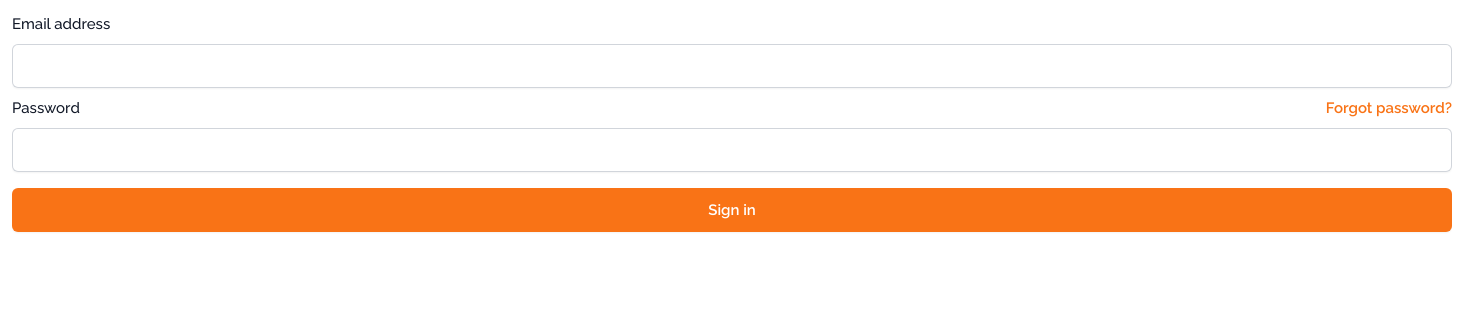
Test: LoginForm Component › Form submission tests › should register the user with the right data and route to the home page
Simulate user input
In the field labelled "Email address": [732, 66] box [12, 44, 1452, 88], type "test@example.com"
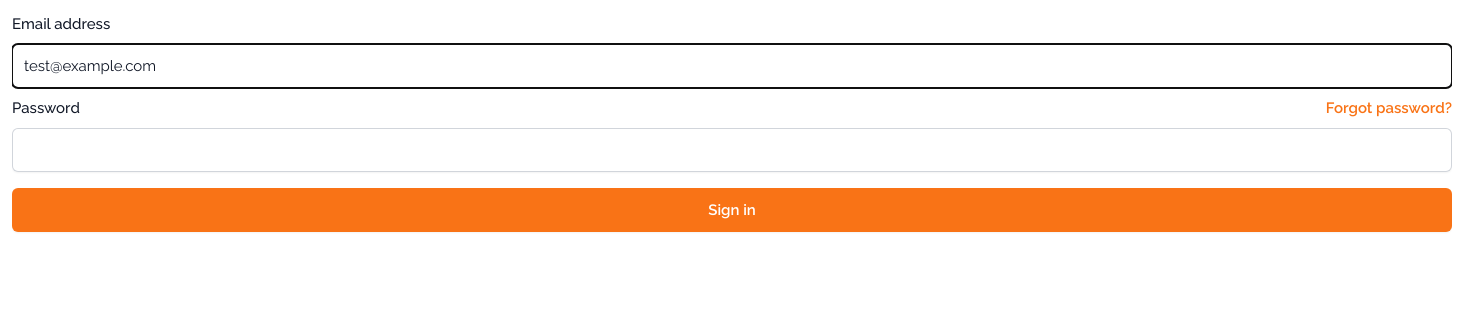
In the password field labelled "Password": [732, 150] box [12, 128, 1452, 172], type "Test1234"
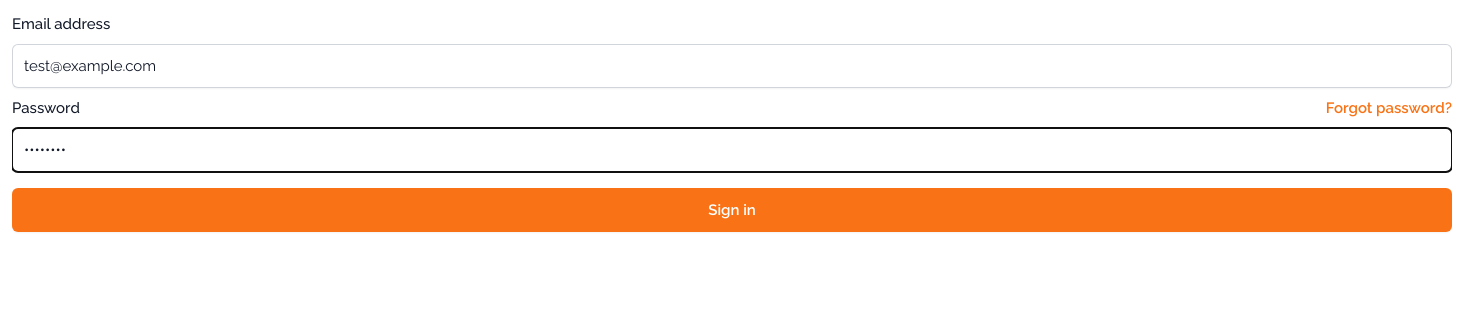
Click the button "Sign in": [732, 210] box [12, 188, 1452, 232]
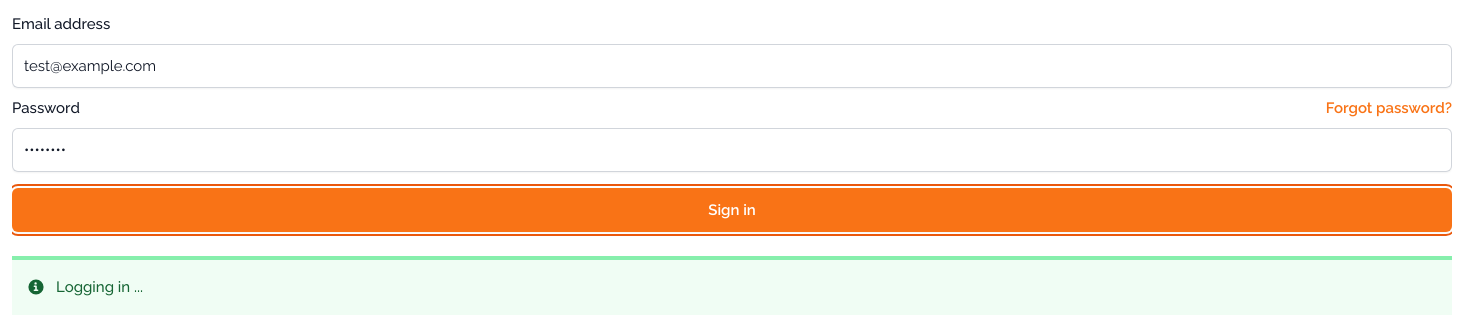
Expected: the text "Logging in ..." is shown, [56, 276, 143, 298]
